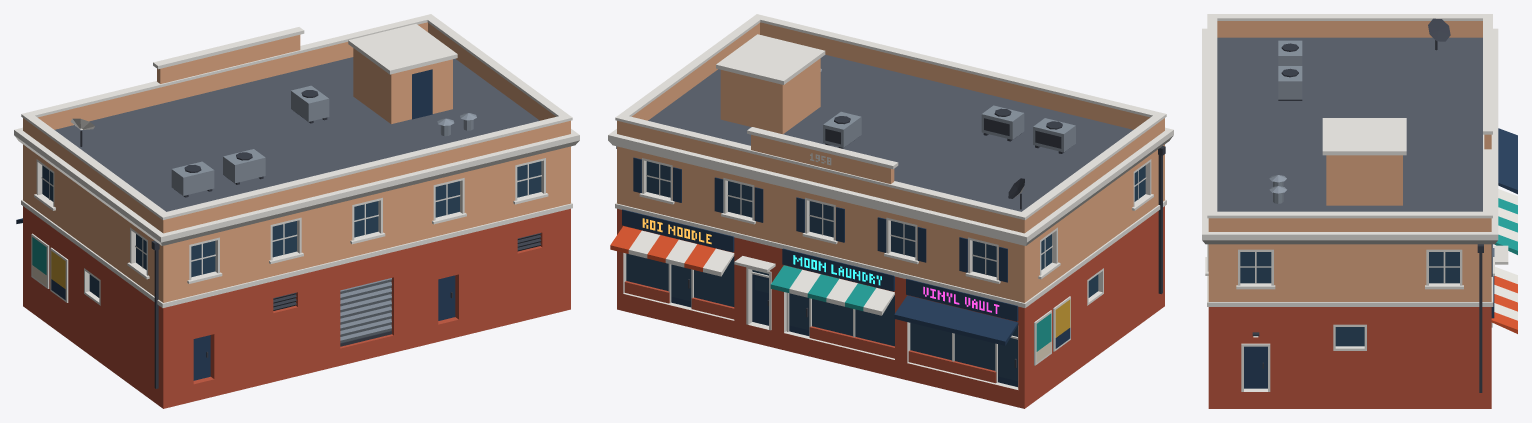
The model's file is storefront_a.glb.
The picture shows the model from 3 angles, left to right: view 1: azimuth 30°, elevation 25°; view 2: azimuth 150°, elevation 25°; view 3: azimuth 270°, elevation 25°; orthographic projection.
Visible parts, largest first — view 1: Building, Building_Detail, Building_Glass; view 2: Building, Building_Detail, Building_Glass, Building_Neon; view 3: Building, Building_Detail, Building_Glass.
Boxes of the visible parts, bbox=[...] form: Building: bbox=[14, 14, 579, 408]; Building_Detail: bbox=[16, 69, 476, 357]; Building_Glass: bbox=[42, 161, 541, 297]; Building: bbox=[608, 14, 1173, 408]; Building_Detail: bbox=[610, 68, 1075, 368]; Building_Glass: bbox=[626, 161, 1145, 380]; Building_Neon: bbox=[642, 218, 999, 313]; Building: bbox=[1202, 14, 1498, 408]; Building_Detail: bbox=[1262, 18, 1517, 368]; Building_Glass: bbox=[1240, 252, 1459, 346].
Size of the model in its own units: 20.36 by 10.58 by 13.18.
